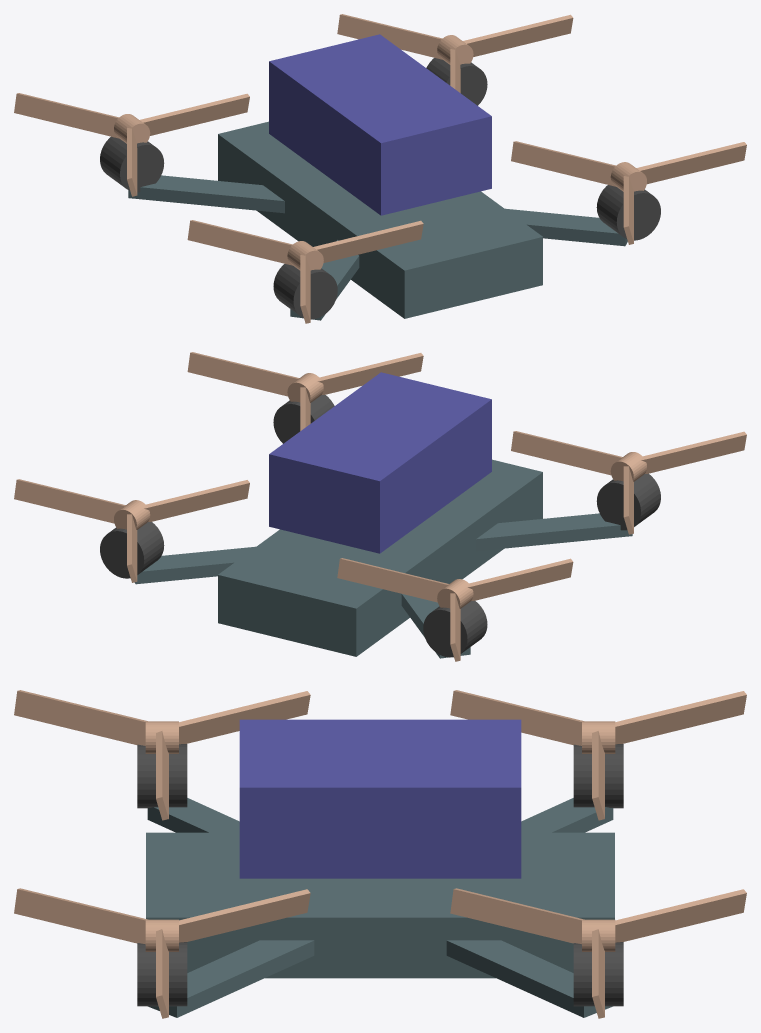
The model's file is Project399 PRIG.glb.
3 views of the same model, one above another, from view 1: azimuth 30°, elevation 25°; view 2: azimuth 150°, elevation 25°; view 3: azimuth 270°, elevation 25° (orthographic). The views are drawn at different scales.
Visible parts, largest first — view 1: battery, frame_body, prop_3, prop_2, prop_0, prop_1, arm_3, arm_0, motor_2, motor_0, motor_3, motor_1 (+1 smaller); view 2: battery, frame_body, prop_1, prop_3, prop_2, prop_0, arm_2, arm_1, motor_3, motor_1, motor_2, motor_0 (+1 smaller); view 3: battery, frame_body, prop_0, prop_1, prop_2, prop_3, arm_1, arm_0, motor_1, motor_0, motor_3, motor_2 (+2 smaller).
Part boxes in pixels (<box>): battery: <box>269,34,491,215</box>; frame_body: <box>218,121,542,318</box>; prop_3: <box>14,93,249,196</box>; prop_2: <box>187,220,423,323</box>; prop_0: <box>511,141,746,244</box>; prop_1: <box>337,14,573,92</box>; arm_3: <box>128,175,284,213</box>; arm_0: <box>505,208,627,246</box>; motor_2: <box>273,264,337,319</box>; motor_0: <box>596,185,660,240</box>; motor_3: <box>100,136,164,192</box>; motor_1: <box>426,58,487,105</box>; battery: <box>269,372,491,553</box>; frame_body: <box>218,459,542,656</box>; prop_1: <box>14,479,249,582</box>; prop_3: <box>337,558,573,661</box>; prop_2: <box>511,431,746,534</box>; prop_0: <box>187,352,423,430</box>; arm_2: <box>476,513,632,551</box>; arm_1: <box>134,546,255,584</box>; motor_3: <box>423,601,487,657</box>; motor_1: <box>100,522,164,578</box>; motor_2: <box>596,473,660,530</box>; motor_0: <box>273,395,334,443</box>; battery: <box>239,719,521,878</box>; frame_body: <box>146,832,614,978</box>; prop_0: <box>14,888,310,1018</box>; prop_1: <box>450,888,746,1018</box>; prop_2: <box>14,690,310,820</box>; prop_3: <box>450,690,746,820</box>; arm_1: <box>446,940,612,1017</box>; arm_0: <box>148,940,314,1017</box>; motor_1: <box>573,942,623,1006</box>; motor_0: <box>137,942,187,1006</box>; motor_3: <box>573,744,623,808</box>; motor_2: <box>137,744,187,808</box>.
Bounding box in the file's own units: 0.2167 × 0.06 × 0.2187.
